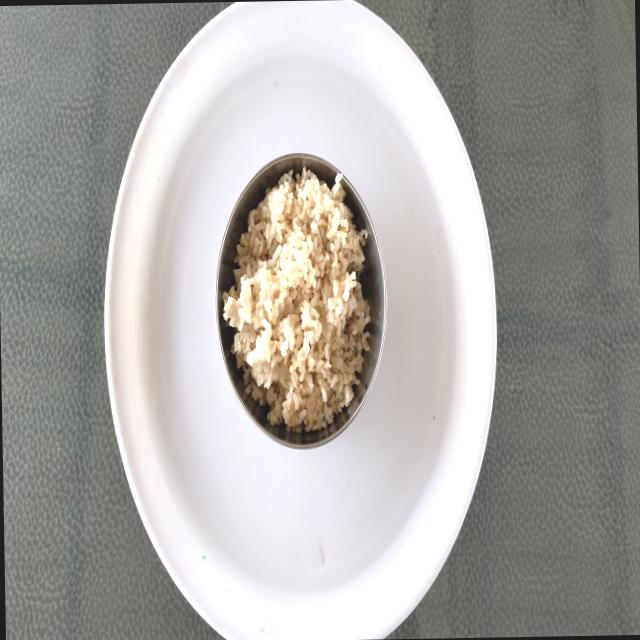brown-rice: (222, 169, 369, 433)
